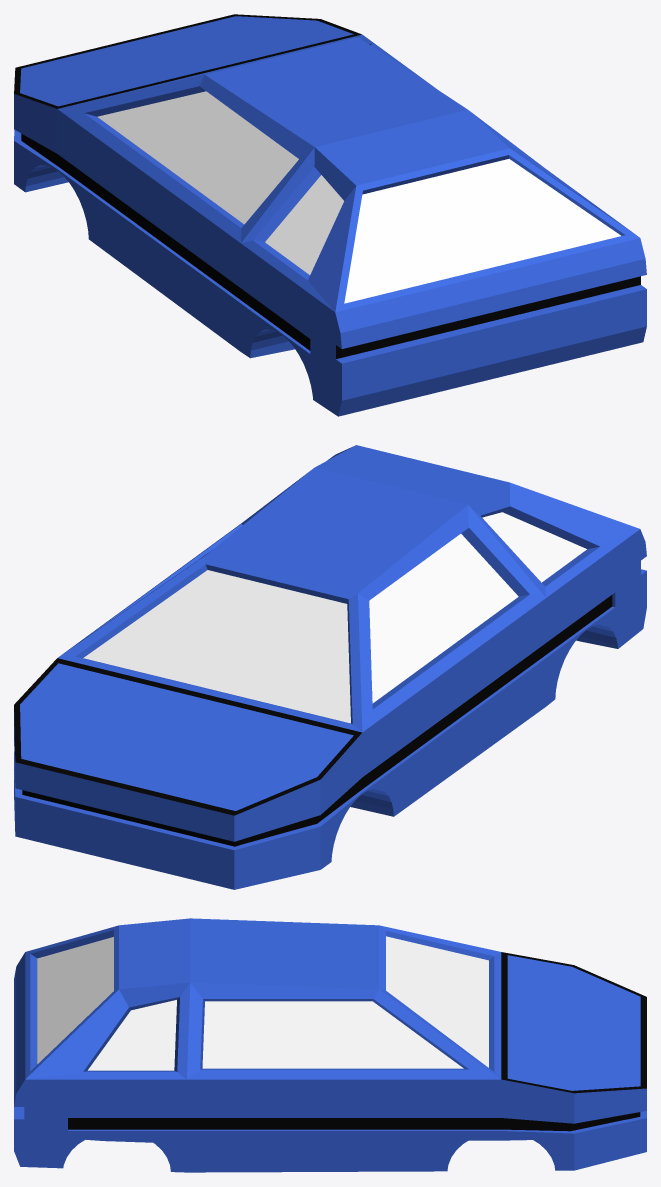
The model's file is car.glb.
3 views of the same model, one above another, from view 1: azimuth 30°, elevation 25°; view 2: azimuth 150°, elevation 25°; view 3: azimuth 270°, elevation 25° (orthographic). The views are drawn at different scales.
Parts seen in each view (by area): view 1: Cube; view 2: Cube; view 3: Cube.
Boxes of the visible parts, x1,y1,x2,y2 form: Cube: (14,14,646,416); Cube: (14,445,646,889); Cube: (14,918,646,1172).
Size of the model in its own units: 2.42 by 1.45 by 5.05.
